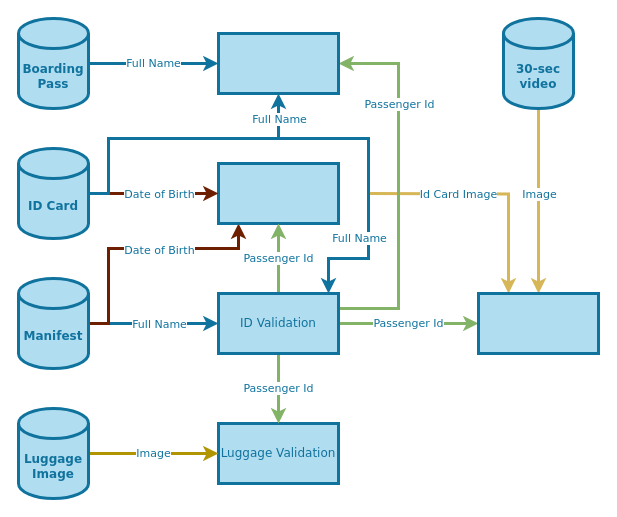
The diagram is 617 pixels wide and 517 high, and some of its shapes have lost their labels. Here are the shapes that lost their labels. From the top down, the box of each, then its label:
(216, 32, 340, 94): Boarding Pass Name Validation
(216, 162, 340, 224): Date of Birth Validation
(476, 292, 600, 354): Face Validation
